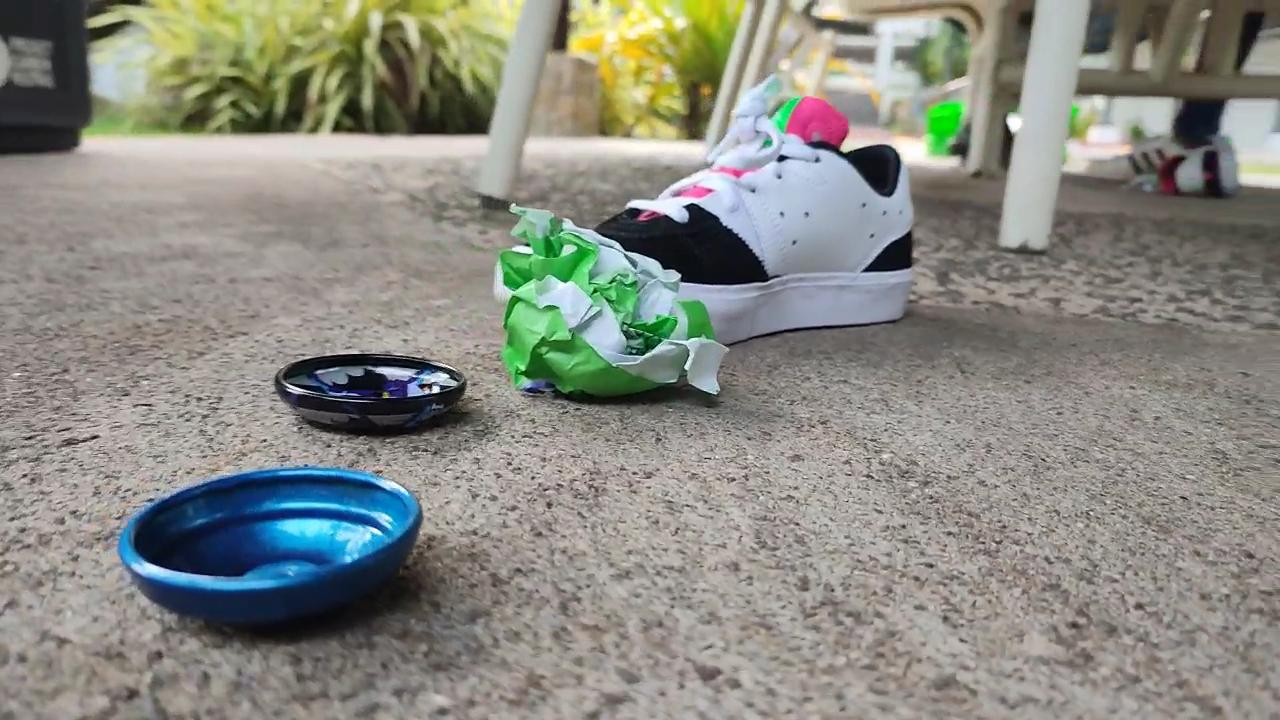Paper: (480, 188, 747, 412)
